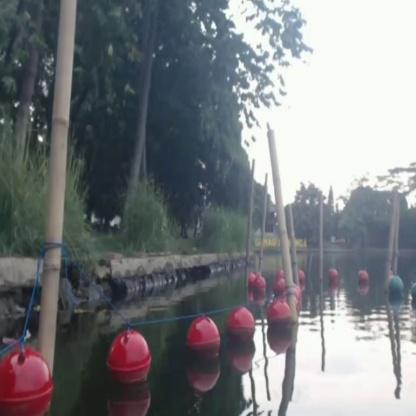green_buoy: (389, 274, 404, 300)
red_buoy: (108, 332, 152, 389), (8, 349, 48, 409), (188, 321, 220, 375), (267, 304, 292, 349), (232, 308, 254, 348), (278, 276, 298, 298), (254, 278, 267, 299), (356, 269, 368, 290), (326, 269, 338, 287), (298, 270, 308, 288)
